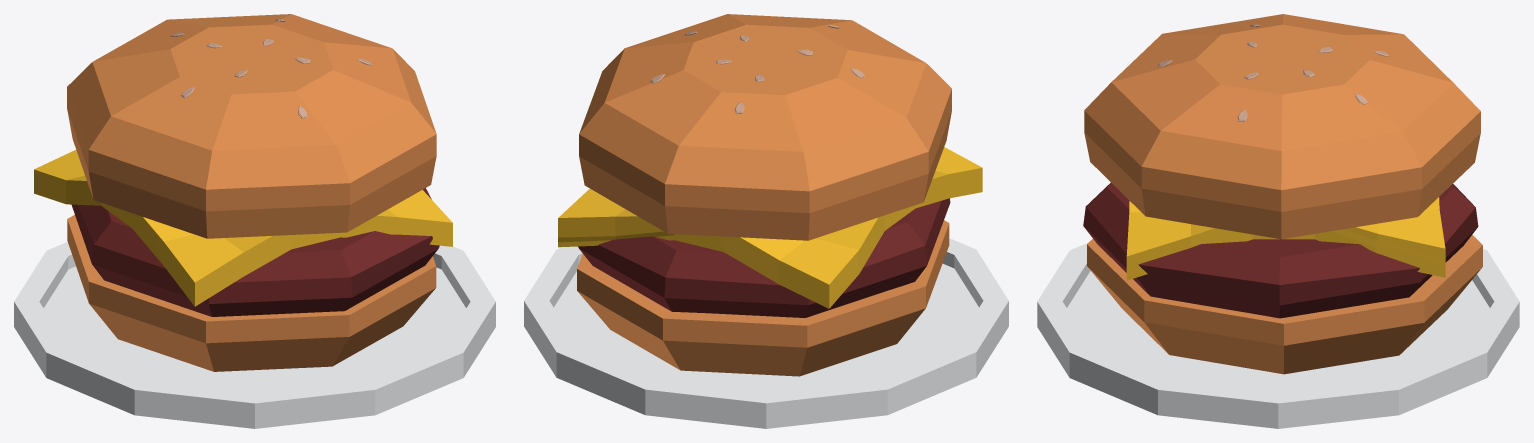
File: HamburgFinal.fbx
The picture shows the model from 3 angles, left to right: view 1: azimuth 30°, elevation 25°; view 2: azimuth 150°, elevation 25°; view 3: azimuth 270°, elevation 25°; orthographic projection.
Parts seen in each view (by area): view 1: Plate.001; view 2: Plate.001; view 3: Plate.001.
Boxes of the visible parts, x1,y1,x2,y2 form: Plate.001: [14, 14, 495, 428]; Plate.001: [524, 14, 1008, 428]; Plate.001: [1037, 14, 1519, 428].
Bounding box in the file's own units: 309 × 192 × 309.
2 materials, 2 textured.
